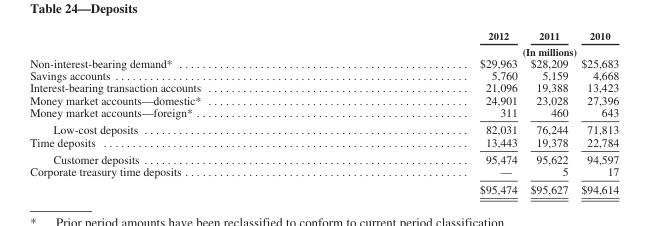table: (29, 29, 618, 195)
table column: (29, 29, 339, 195), (339, 29, 523, 195), (523, 29, 574, 195), (574, 29, 618, 195)
table column header: (29, 29, 618, 56)
table row: (29, 105, 618, 120), (29, 120, 618, 135), (29, 135, 618, 150), (29, 150, 618, 165), (29, 165, 618, 180), (29, 180, 618, 195), (29, 29, 618, 43), (29, 43, 618, 56), (29, 68, 618, 81), (29, 56, 618, 68), (29, 81, 618, 93), (29, 93, 618, 105)
table spanning cell: (339, 43, 618, 56)
